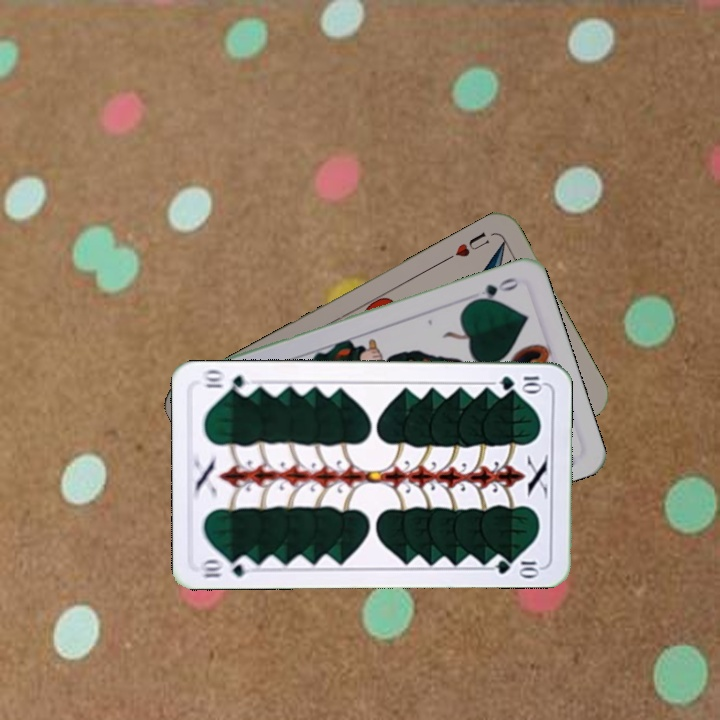G10: (197, 553, 256, 581), (495, 372, 545, 393)
GO: (466, 273, 522, 306)
HU: (441, 227, 492, 264)
